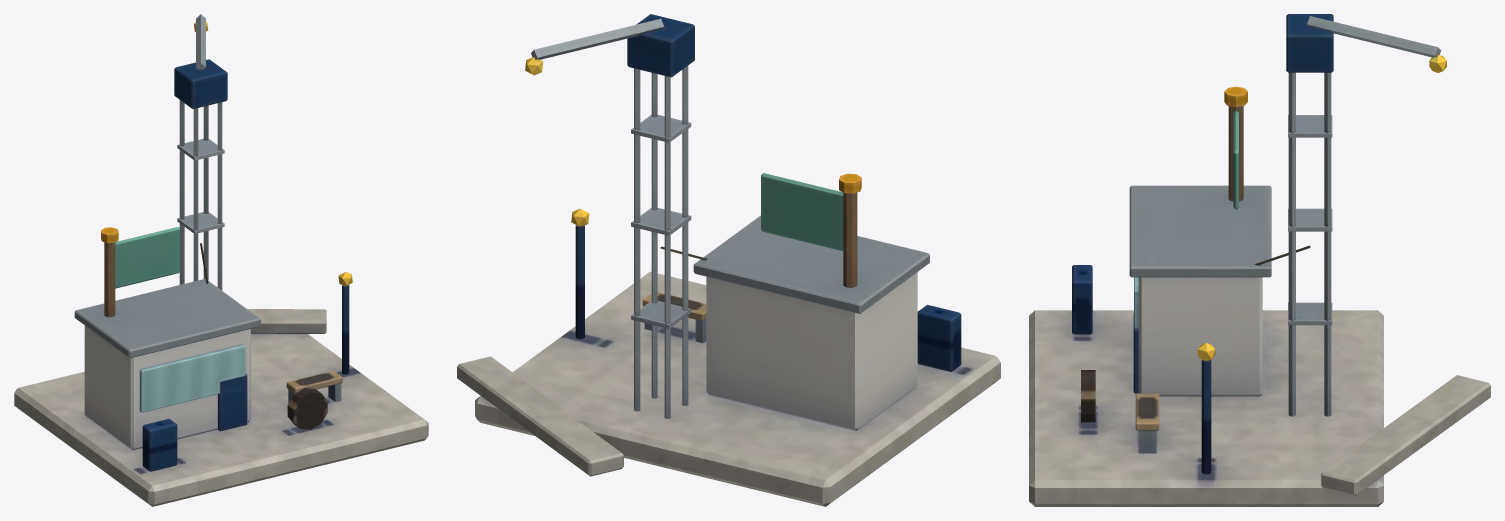
File: harbor-20.glb
3 renders of one model, left to right at view 1: azimuth 30°, elevation 25°; view 2: azimuth 150°, elevation 25°; view 3: azimuth 270°, elevation 25°, orthographic. The views are drawn at different scales.
Visible parts, largest first — view 1: harbor-20; view 2: harbor-20; view 3: harbor-20.
Boxes of the visible parts, x1,y1,x2,y2 form: harbor-20: (14, 14, 428, 506); harbor-20: (457, 14, 1000, 506); harbor-20: (1029, 14, 1490, 506).
Size of the model in its own units: 1.51 by 1.56 by 1.56.
1 material, 1 textured.
